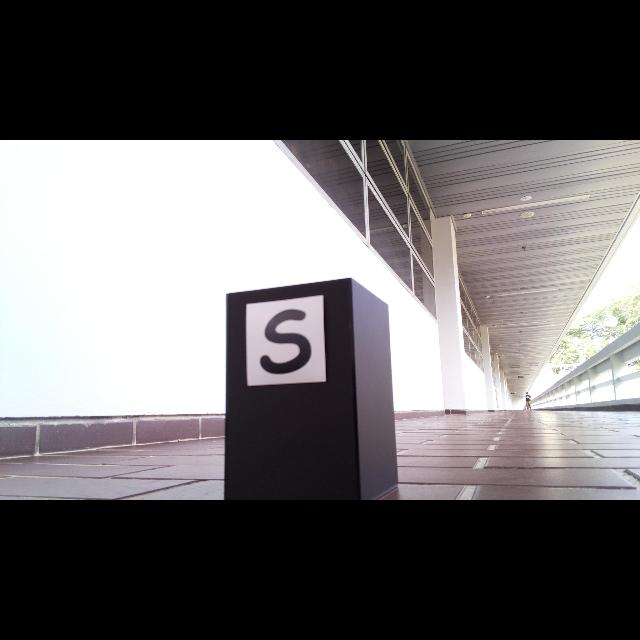S: (259, 309, 313, 375)
